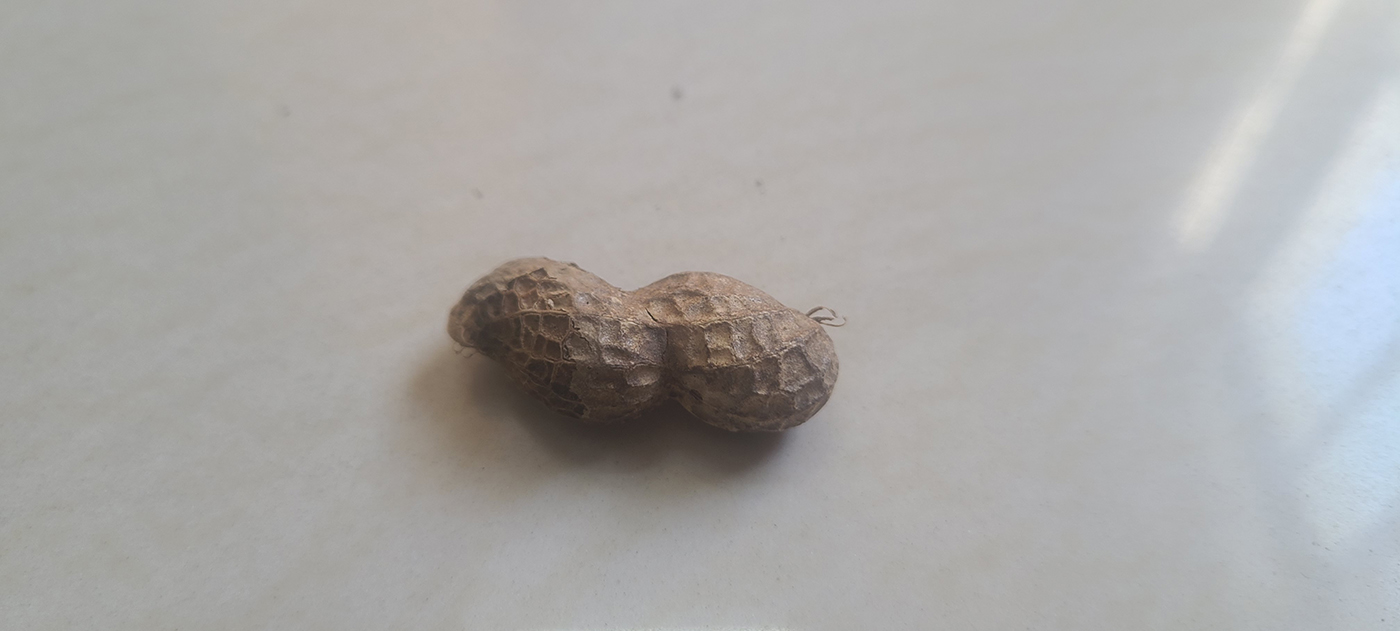l: (444, 251, 841, 438)
